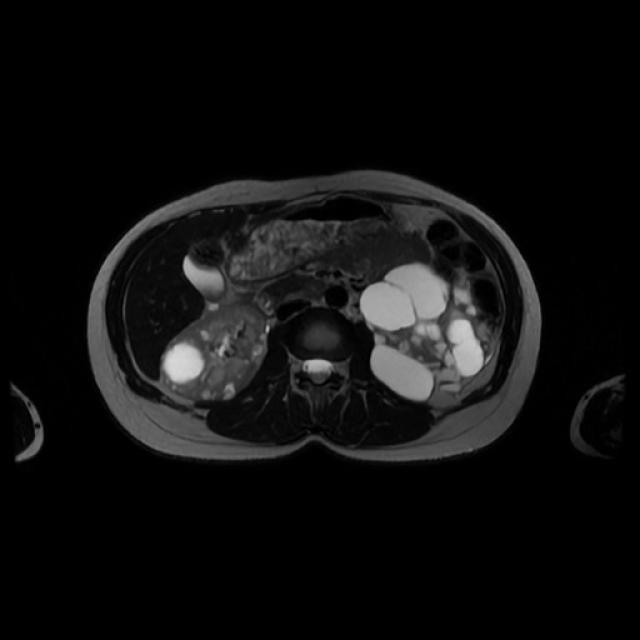sag: (160, 303, 270, 399)
sol: (361, 264, 486, 401)
